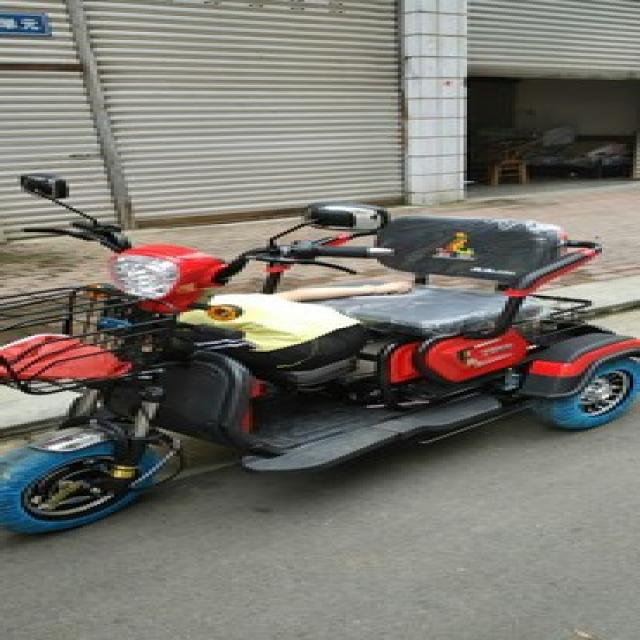tricycle: (0, 172, 637, 534)
